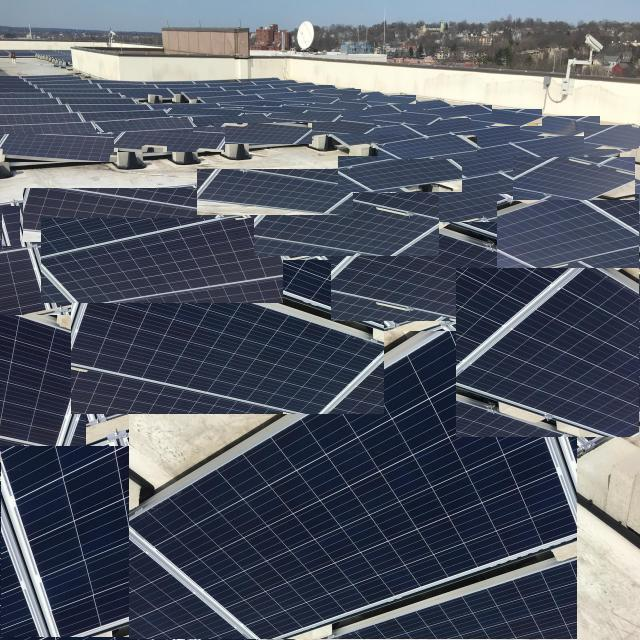Non Defective: (129, 331, 577, 639), (71, 260, 384, 414), (1, 447, 169, 637), (456, 269, 640, 437), (332, 223, 560, 321), (41, 219, 283, 303), (254, 193, 439, 256), (0, 316, 86, 446), (23, 189, 218, 242), (498, 195, 639, 268), (403, 175, 552, 227), (197, 169, 353, 215), (513, 158, 635, 200), (338, 156, 462, 192), (434, 145, 547, 177), (1, 135, 117, 162), (516, 134, 621, 161), (114, 127, 225, 152), (1, 254, 43, 318), (378, 135, 477, 159), (215, 124, 312, 144), (457, 125, 543, 147), (334, 125, 423, 145), (1, 122, 97, 138), (521, 117, 600, 136), (96, 118, 193, 132), (408, 118, 487, 135), (585, 125, 640, 149), (297, 118, 374, 134), (471, 110, 542, 126), (189, 114, 273, 127), (367, 111, 440, 125), (428, 105, 492, 118), (267, 111, 341, 122), (1, 114, 82, 124), (333, 106, 401, 117), (2, 206, 20, 246), (168, 108, 245, 116), (307, 100, 367, 110), (242, 105, 310, 113), (280, 95, 339, 104), (202, 95, 260, 103), (362, 96, 416, 104), (221, 100, 282, 107), (259, 92, 314, 99), (311, 89, 361, 95), (290, 86, 335, 90)
